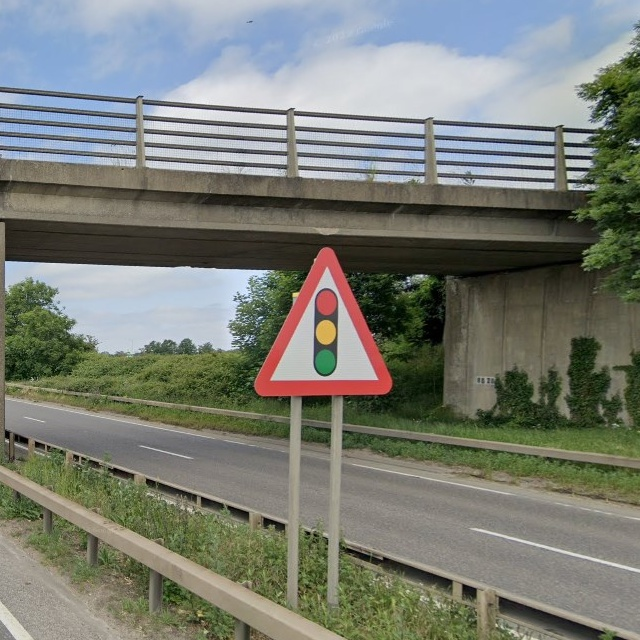Traffic lights: (248, 243, 392, 398)
